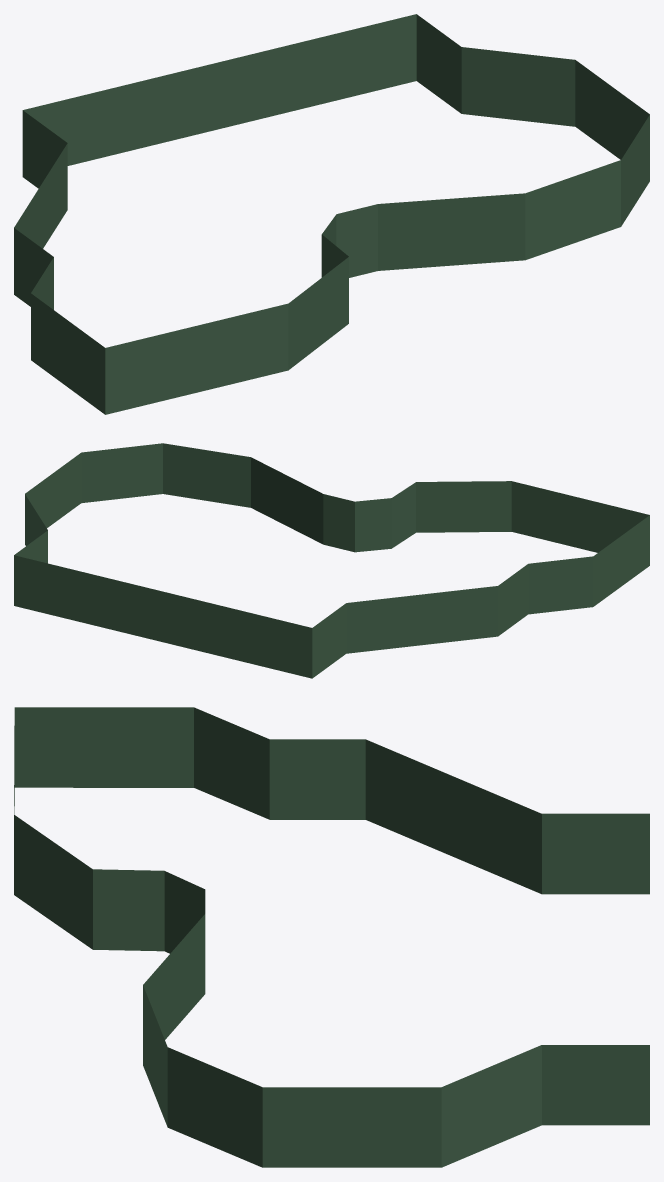
The model's file is LIMITE 1-2.fbx.
3 views of the same model, one above another, from view 1: azimuth 30°, elevation 25°; view 2: azimuth 150°, elevation 25°; view 3: azimuth 270°, elevation 25° (orthographic). The views are drawn at different scales.
Parts seen in each view (by area): view 1: Base.003; view 2: Base.003; view 3: Base.003.
Boxes of the visible parts, bbox=[...] form: Base.003: bbox=[14, 14, 649, 414]; Base.003: bbox=[14, 443, 649, 678]; Base.003: bbox=[14, 707, 649, 1167].
Size of the model in its own units: 2023 by 200 by 1431.
